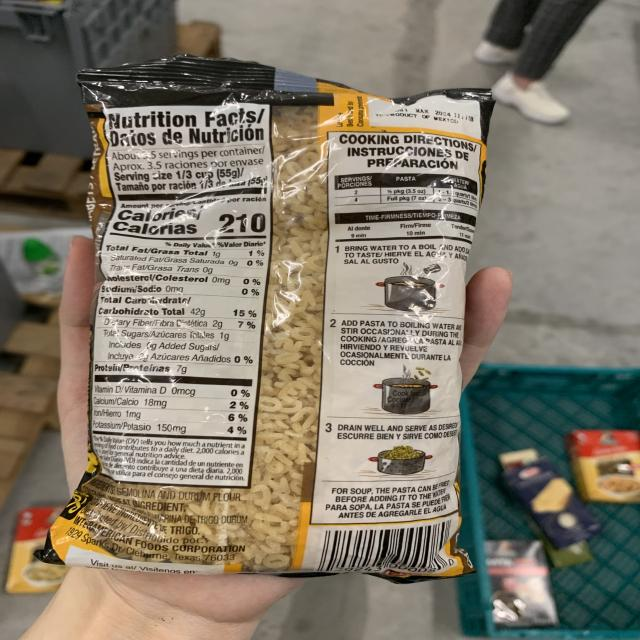object_name: (98, 84, 459, 571)
